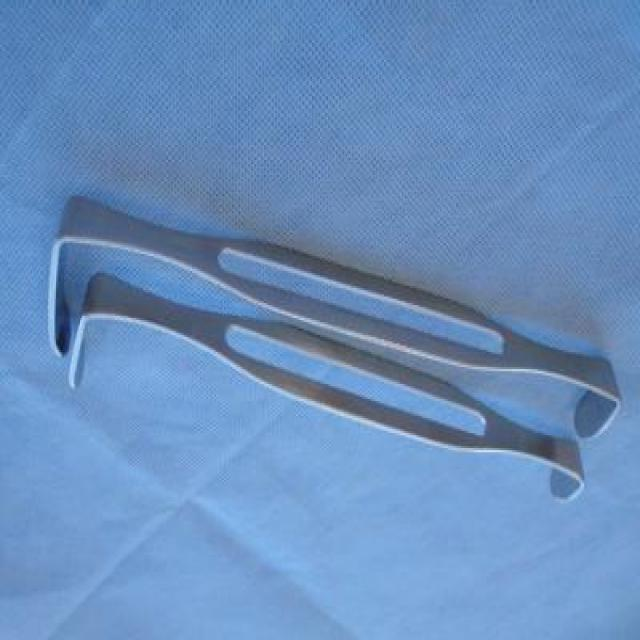Army_navy: (43, 190, 624, 444), (62, 262, 588, 508)
